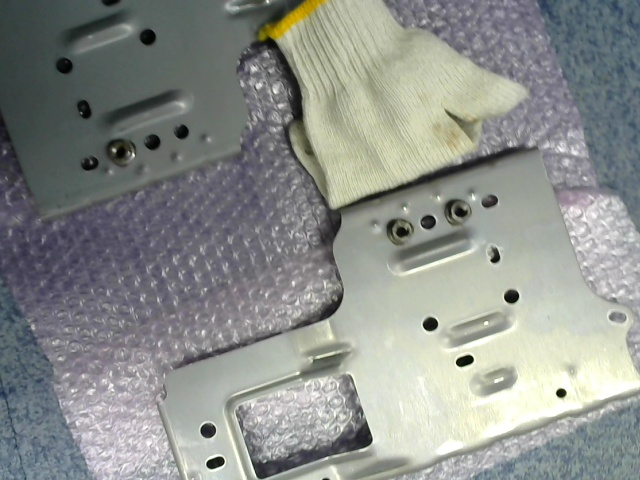dog: (105, 138, 137, 168), (386, 218, 416, 247), (445, 200, 472, 226)
